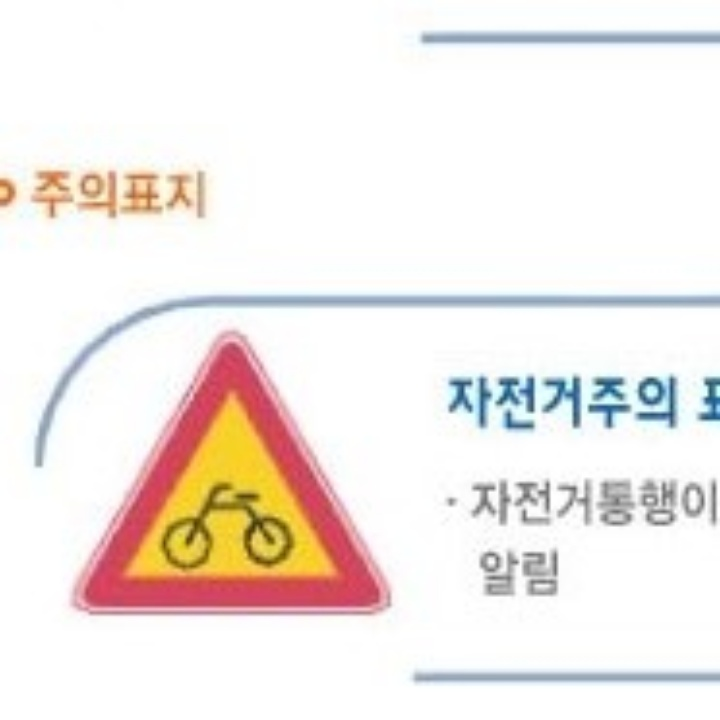bicycle: (71, 326, 392, 617)
